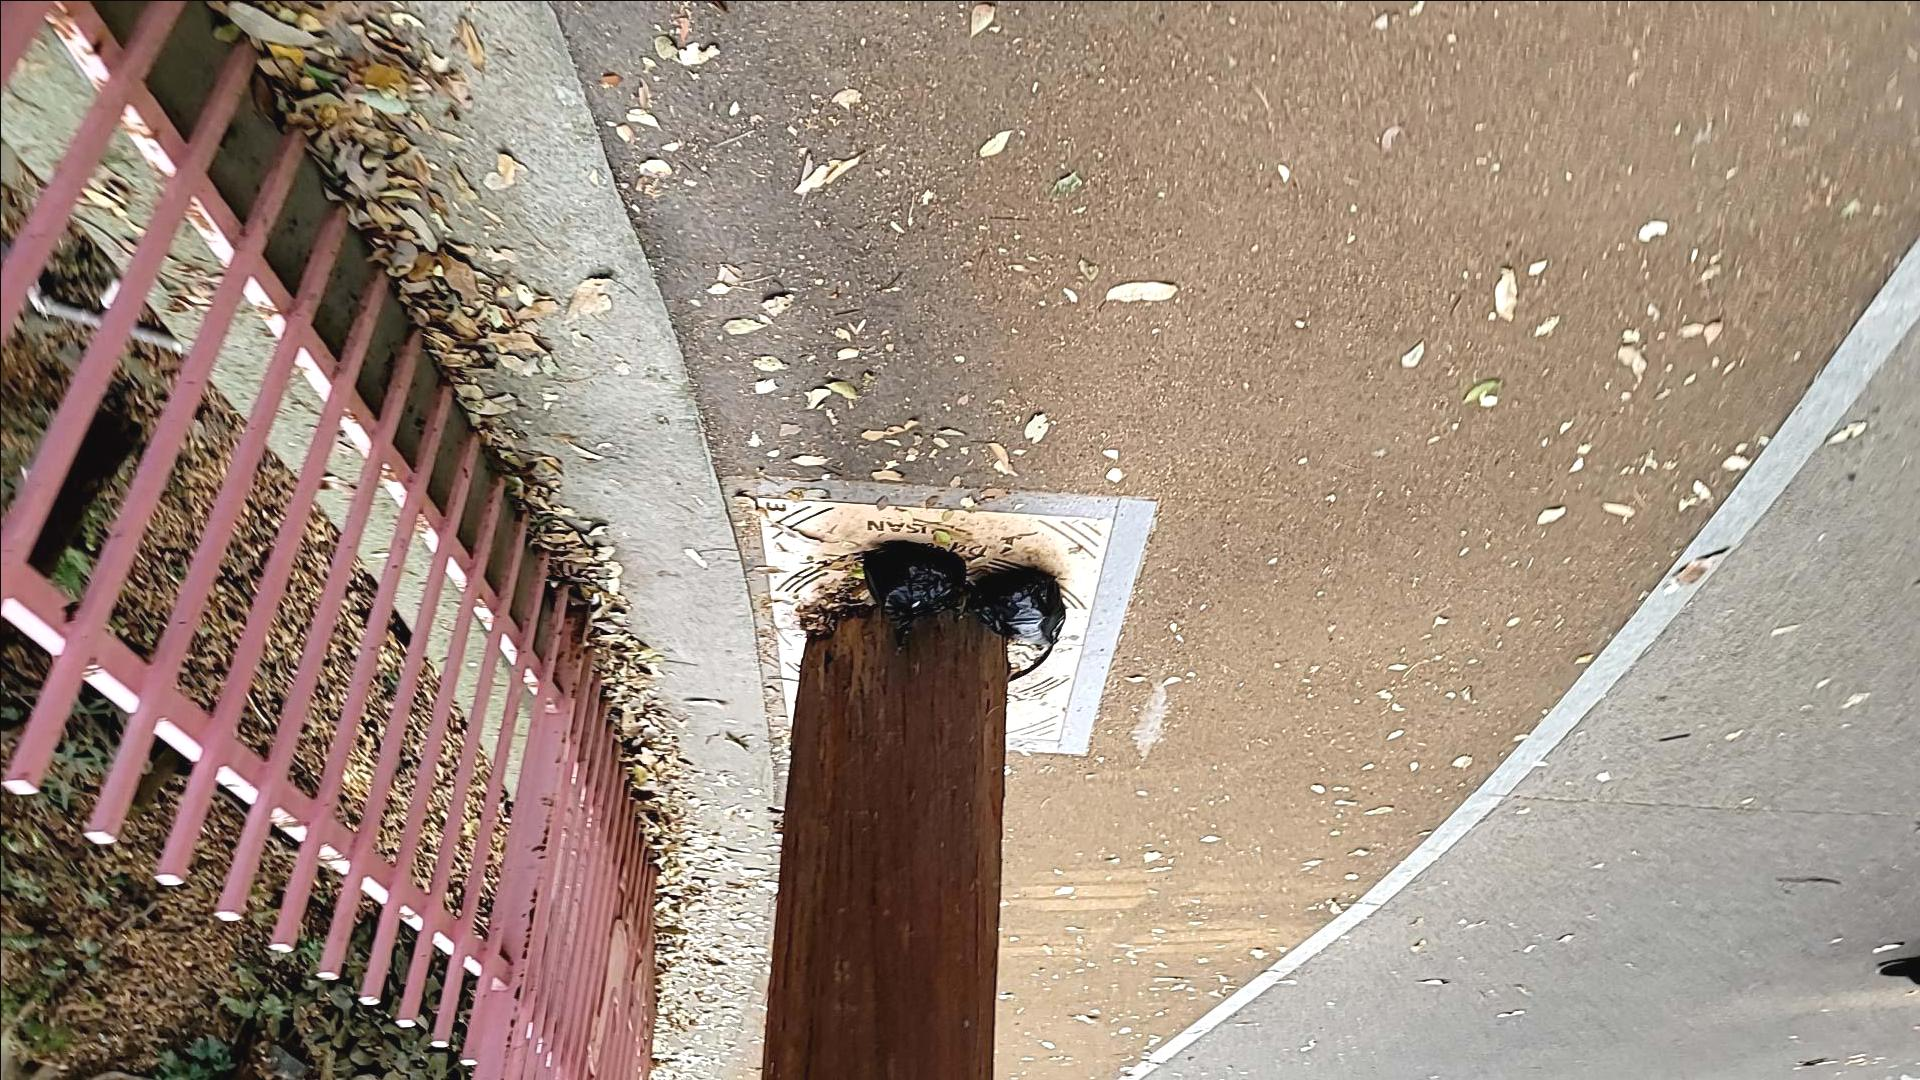black_bag: (862, 542, 971, 659), (967, 568, 1065, 647)
